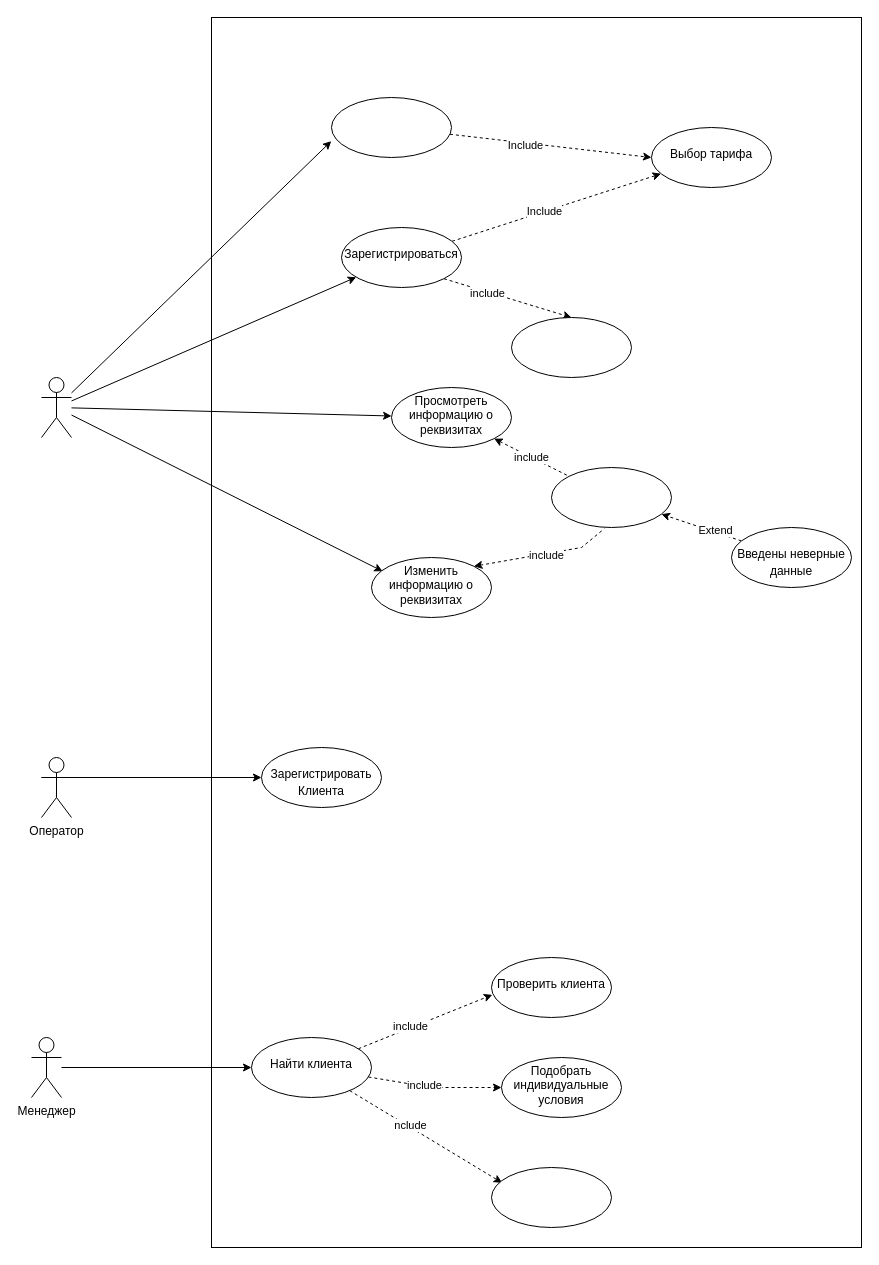
The diagram is 879 pixels wide and 1265 high, and some of its shapes have lost their labels. The centre of each missing label's shape, as x and y in pixels:
"Авторизоваться" goes at point (611, 497).
"Активировать клиента" goes at point (551, 1197).
"Клиент" goes at point (56, 407).
"Подтвердить Email" goes at point (571, 347).
"Сменить тариф" goes at point (391, 127).
